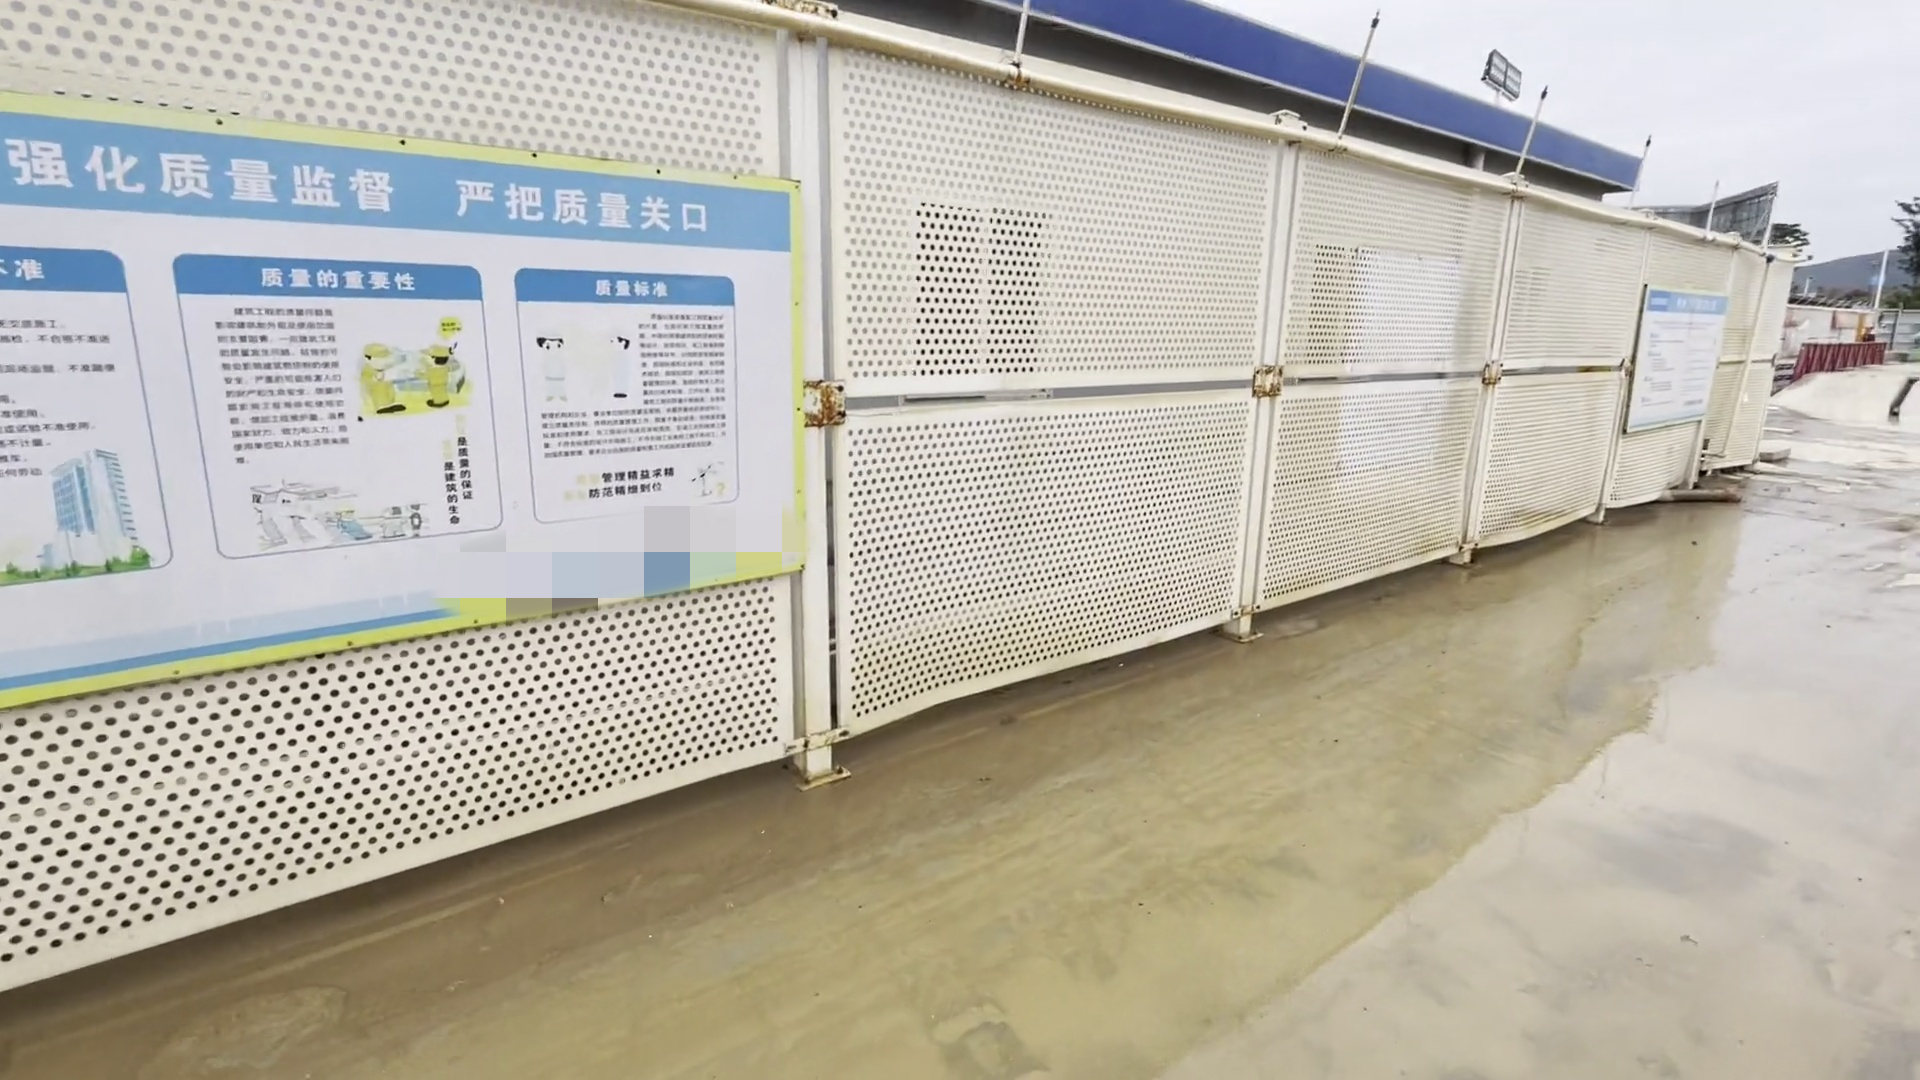slogan: (15, 105, 829, 713)
